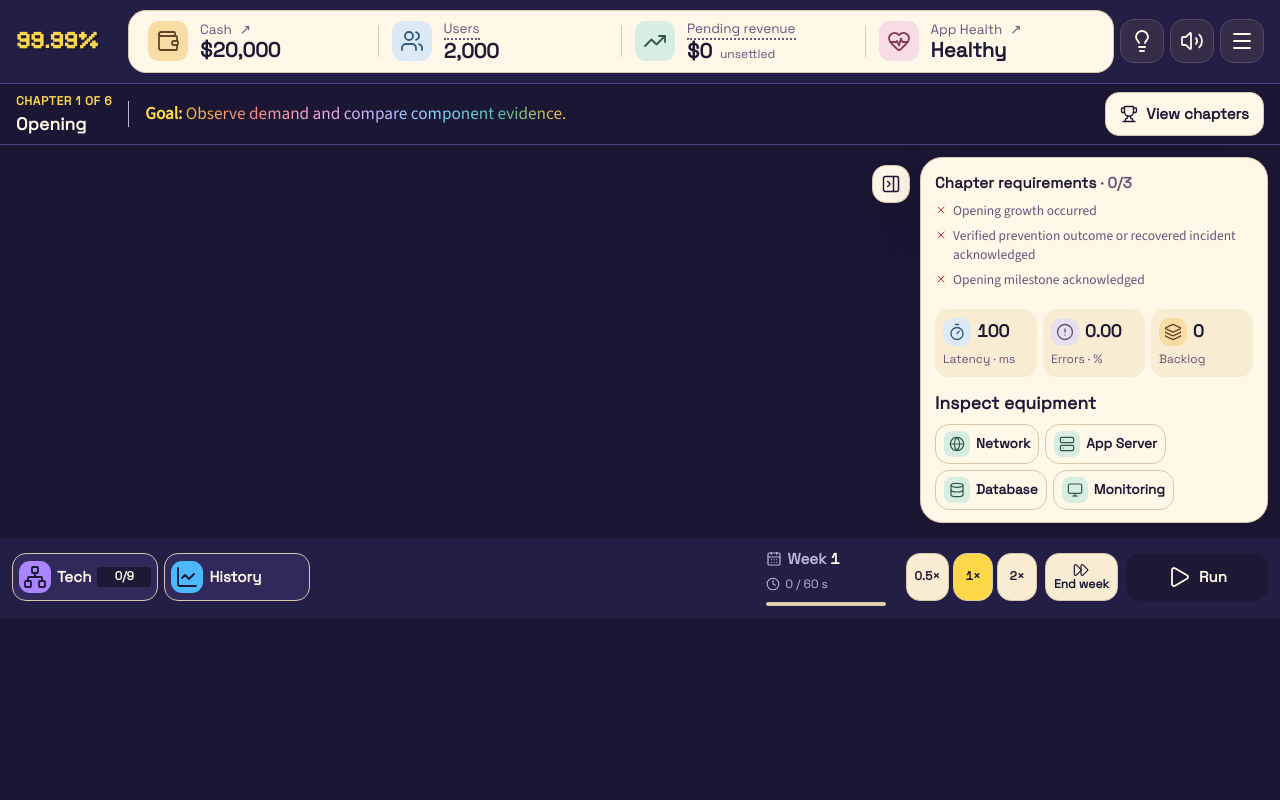
Test: keeps the panel without tabs and opens equipment in its inspection during a chapter guide
Expected: the button "Add server" is not shown
Click the button "App Server": (1106, 444) [1045,424,1166,464]
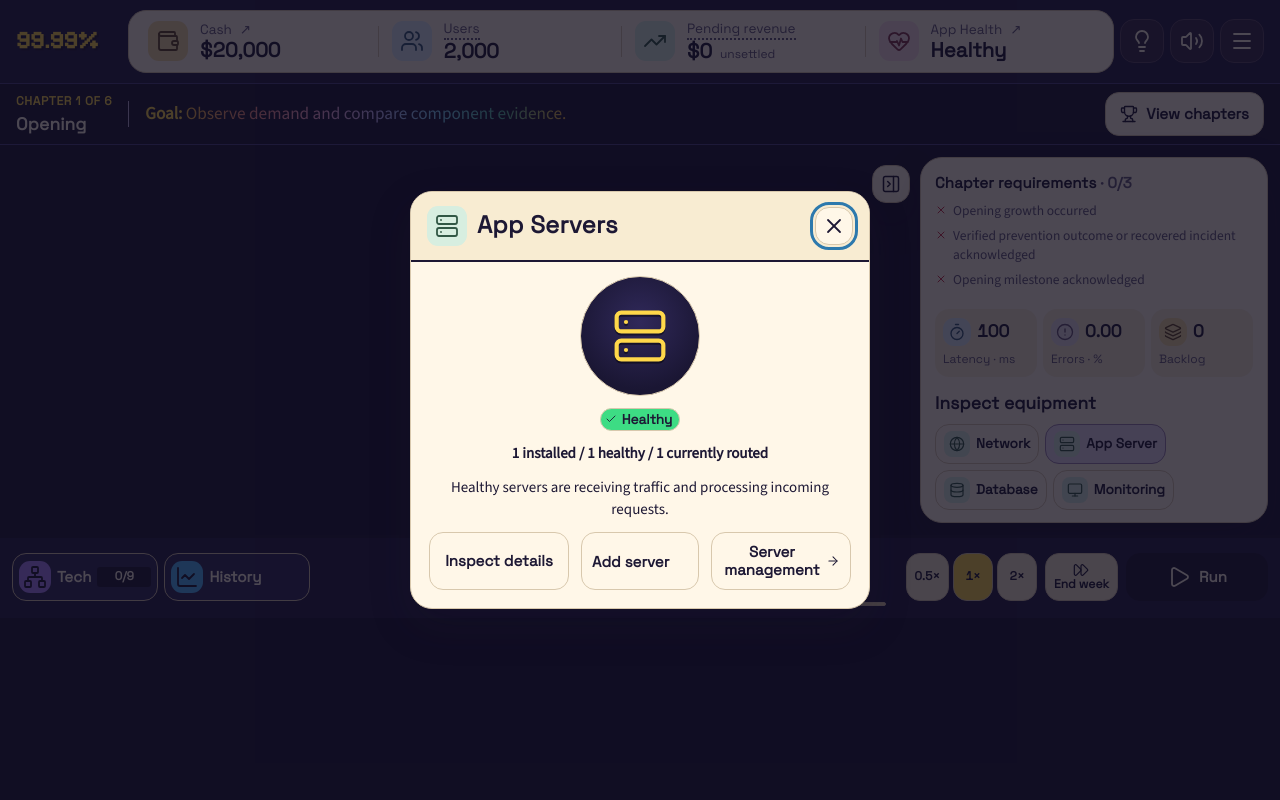
Now the button "Add server" is shown, box [581,532,699,590]
